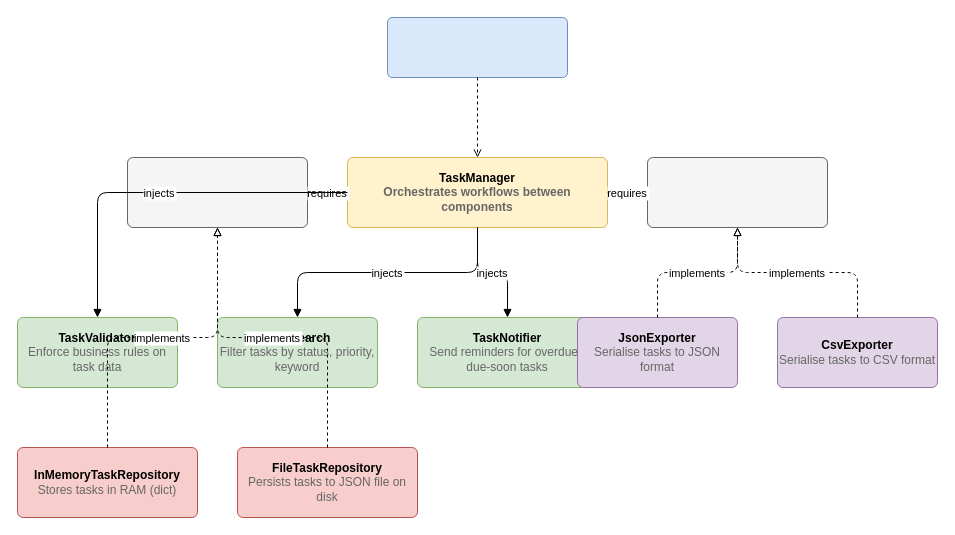
This 955x535 diagram has some shape labels left out. Each missing label, with the box of its shape:
models.py Task, User, Enums: (386, 16, 568, 78)
«interface» ITaskExporter export(tasks, destination): (646, 156, 828, 228)
«interface» ITaskStorage save / get / delete / list_all: (126, 156, 308, 228)
